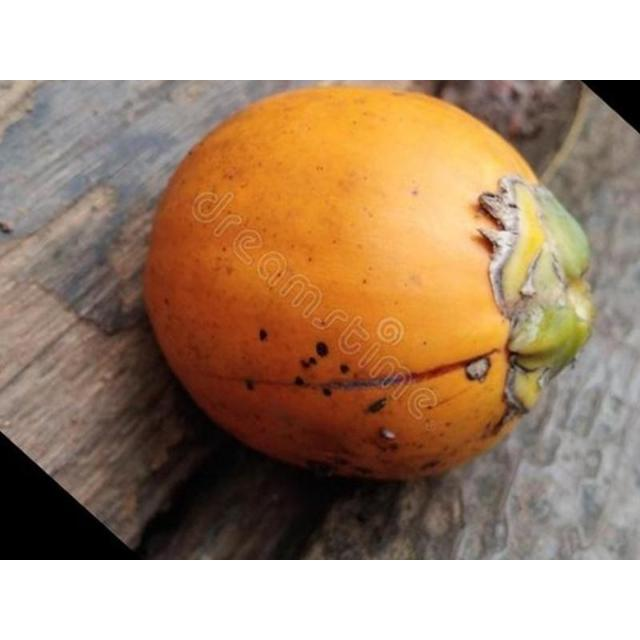good: (123, 90, 601, 500)
